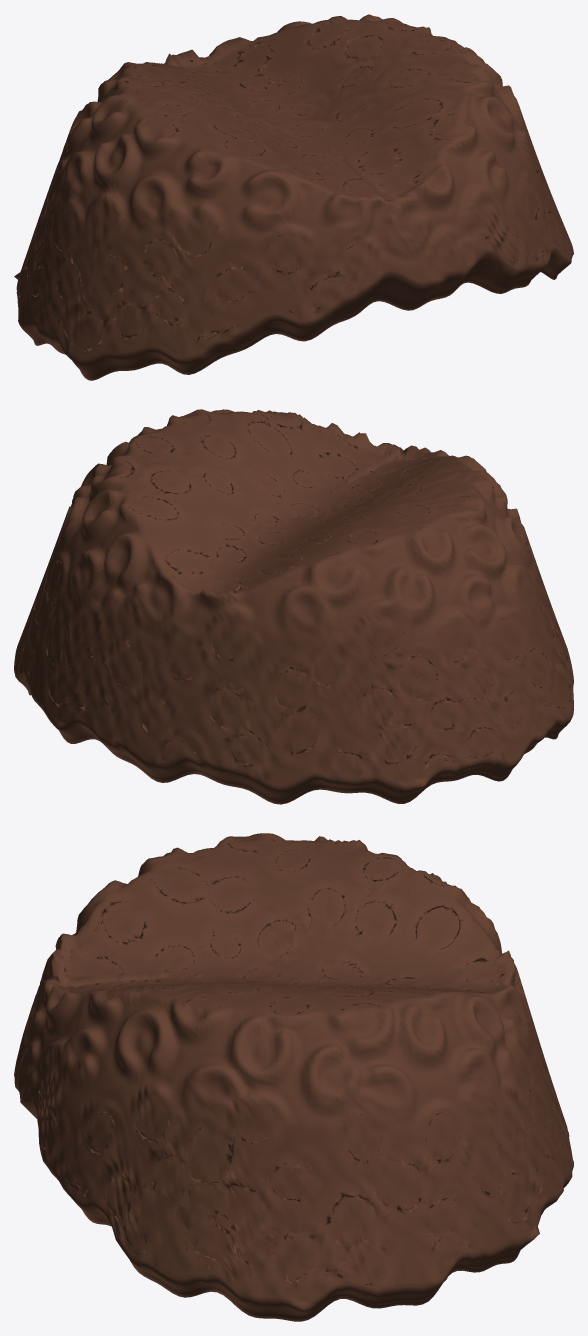
File: Masculine-afro-cowboy251-hair.glb
The picture shows the model from 3 angles, top to bottom: view 1: azimuth 30°, elevation 25°; view 2: azimuth 150°, elevation 25°; view 3: azimuth 270°, elevation 25°; orthographic projection. The views are drawn at different scales.
Parts seen in each view (by area): view 1: 226 hair / Hair / sculpted afro251.001; view 2: 226 hair / Hair / sculpted afro251.001; view 3: 226 hair / Hair / sculpted afro251.001.
Boxes of the visible parts, <box> form: 226 hair / Hair / sculpted afro251.001: <box>14,14,573,380</box>; 226 hair / Hair / sculpted afro251.001: <box>14,409,573,804</box>; 226 hair / Hair / sculpted afro251.001: <box>14,833,573,1321</box>.
Bounding box in the file's own units: 0.9906 × 0.422 × 0.8117.
